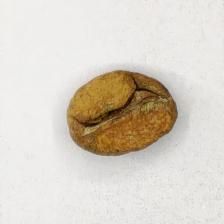NG: (71, 71, 160, 140)
